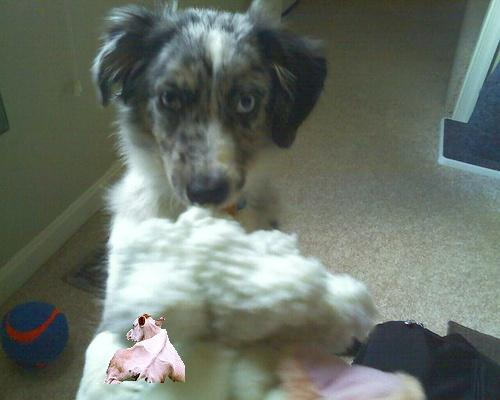tampered: (97, 314, 185, 384)
